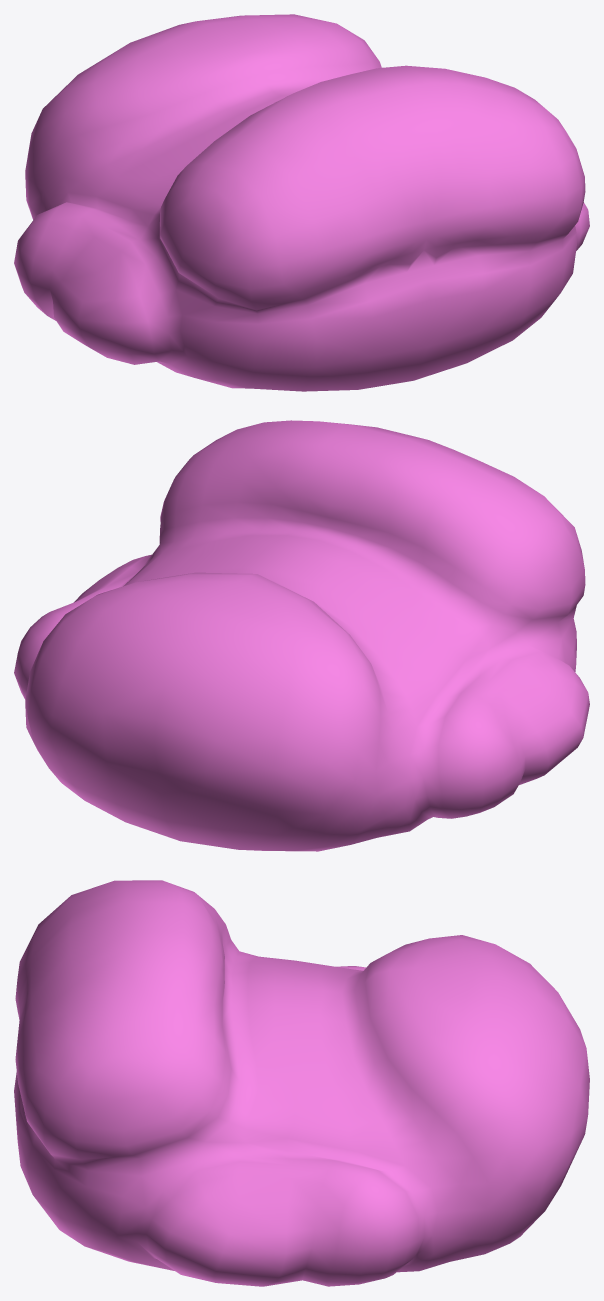
Rendered from Bag_01.fbx.
3 views of the same model, one above another, from view 1: azimuth 30°, elevation 25°; view 2: azimuth 150°, elevation 25°; view 3: azimuth 270°, elevation 25° (orthographic). The views are drawn at different scales.
Visible parts, largest first — view 1: Object003; view 2: Object003; view 3: Object003.
Boxes of the visible parts, <box> form: Object003: <box>14,14,589,391</box>; Object003: <box>14,420,589,851</box>; Object003: <box>14,880,589,1286</box>.
Size of the model in its own units: 80.14 by 43.4 by 76.08.
